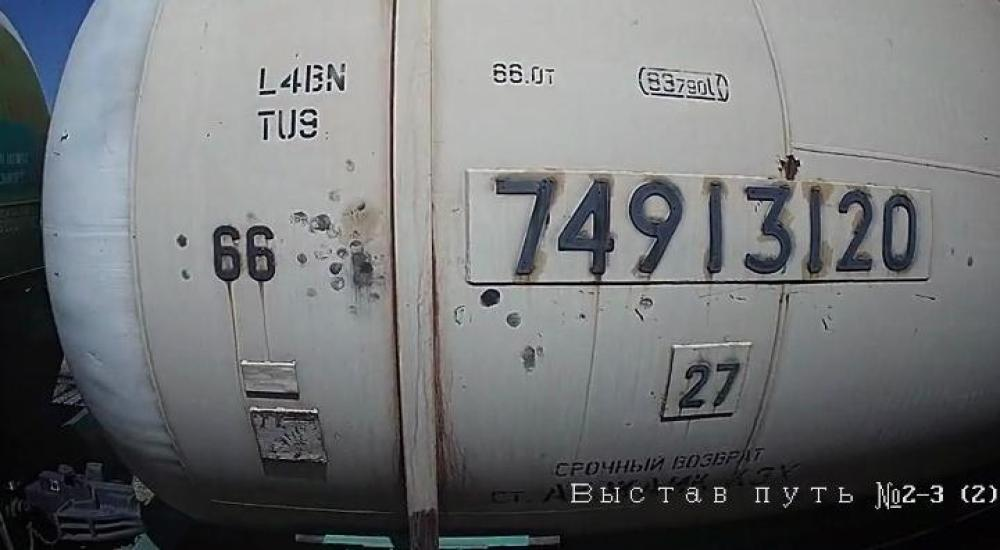Wagon-number: (483, 170, 919, 282)
